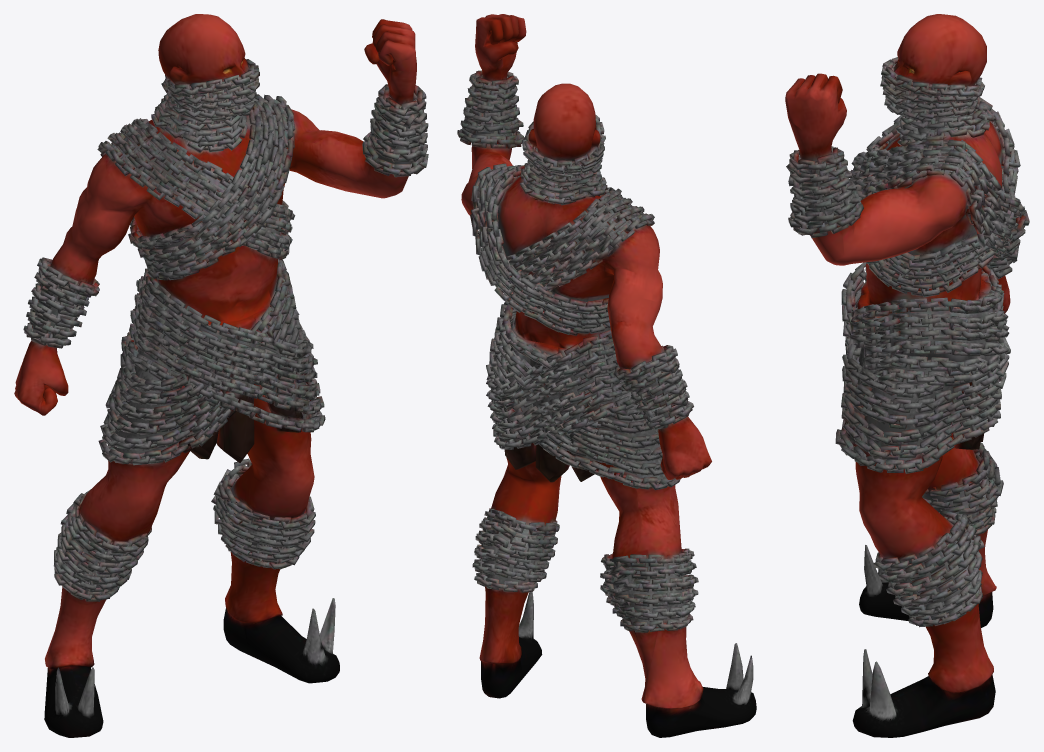
File: MZ4250 - Chain Devil.glb
3 renders of one model, left to right at view 1: azimuth 30°, elevation 25°; view 2: azimuth 150°, elevation 25°; view 3: azimuth 270°, elevation 25°, orthographic. The views are drawn at different scales.
Visible parts, largest first — view 1: default; view 2: default; view 3: default.
Boxes of the visible parts, x1=… form: default: x1=14, y1=14, x2=428, y2=737; default: x1=457, y1=14, x2=756, y2=737; default: x1=785, y1=14, x2=1029, y2=737.
Bounding box in the file's own units: 0.6179 × 1.14 × 0.3743.
Materials: 1 (1 with a texture image).
